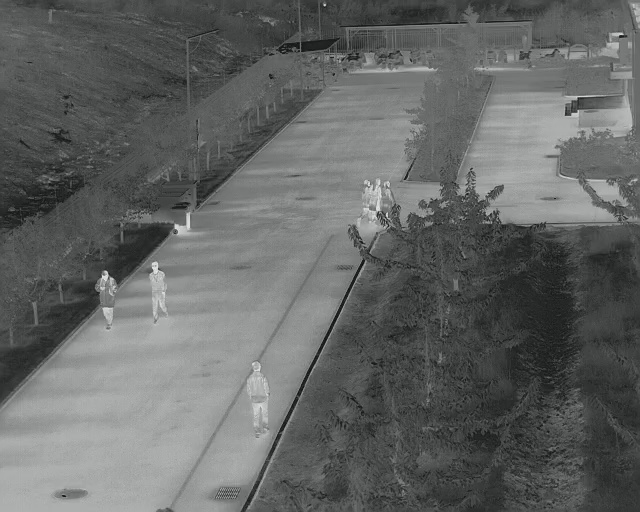person: (245, 359, 273, 439), (145, 260, 170, 327), (93, 269, 118, 331), (355, 178, 372, 224), (369, 177, 382, 216), (381, 179, 395, 214)
